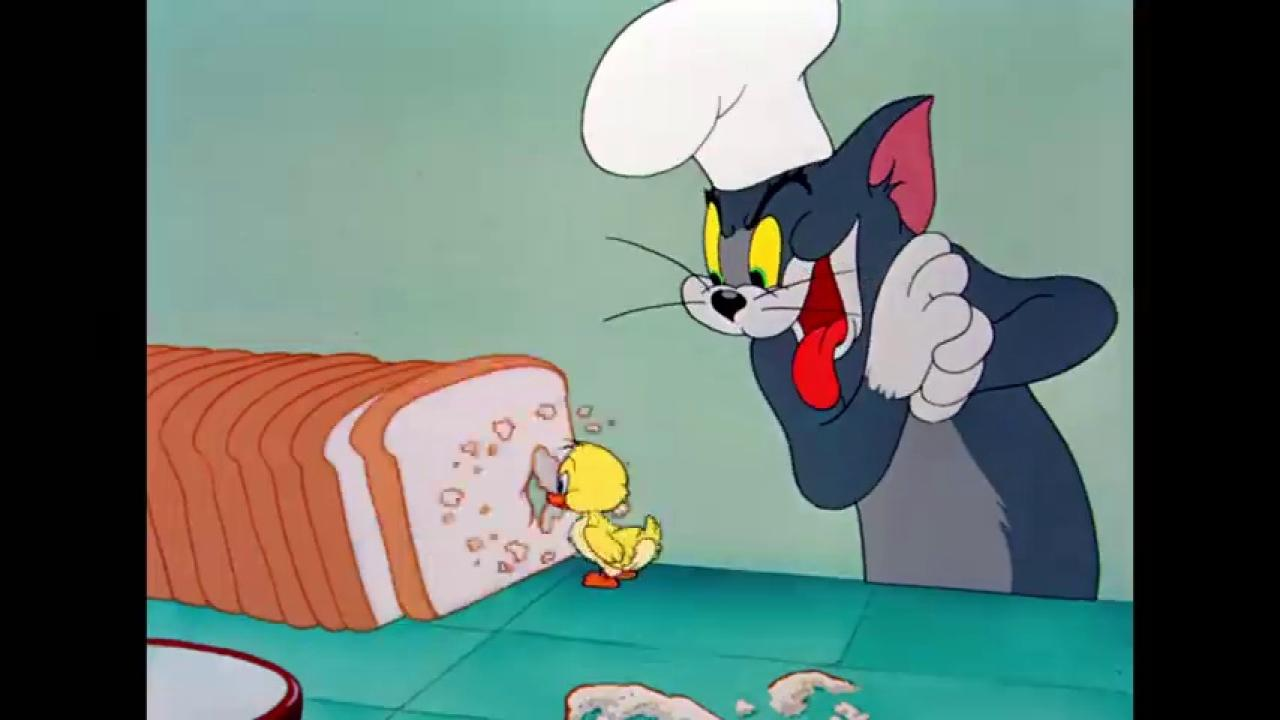Tom: (678, 91, 1120, 601)
